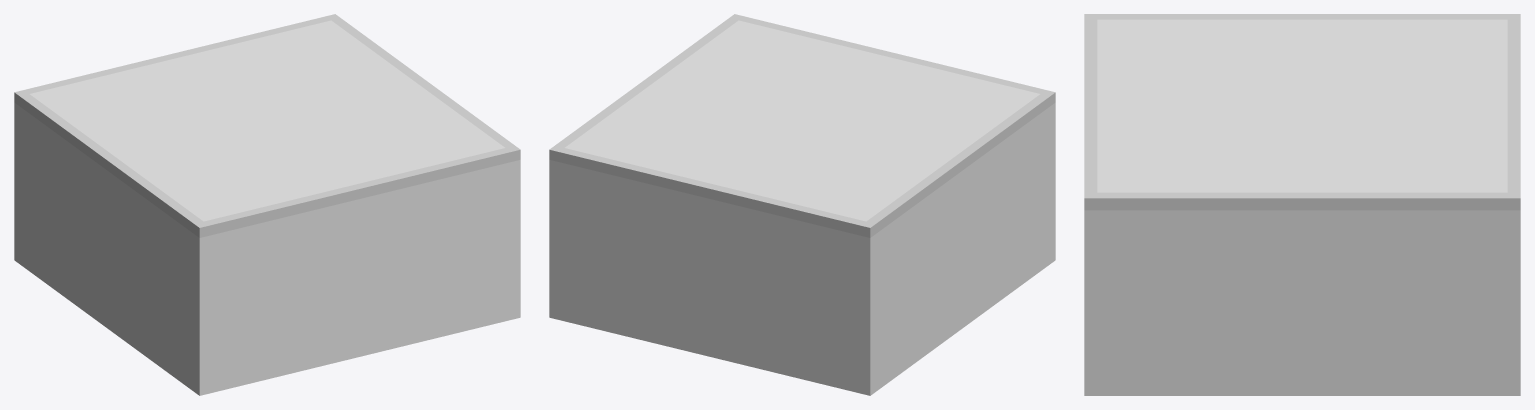
File: TileSuelo.obj
The picture shows the model from 3 angles, left to right: view 1: azimuth 30°, elevation 25°; view 2: azimuth 150°, elevation 25°; view 3: azimuth 270°, elevation 25°; orthographic projection. The views are drawn at different scales.
Parts seen in each view (by area): view 1: TileSuelo; view 2: TileSuelo; view 3: TileSuelo.
Part boxes in pixels (x1,y1,x2,y2): TileSuelo: (14,14,520,395); TileSuelo: (549,14,1055,395); TileSuelo: (1084,14,1520,395).
Size of the model in its own units: 100 by 50 by 100.
Materials: 1 (1 with a texture image).
